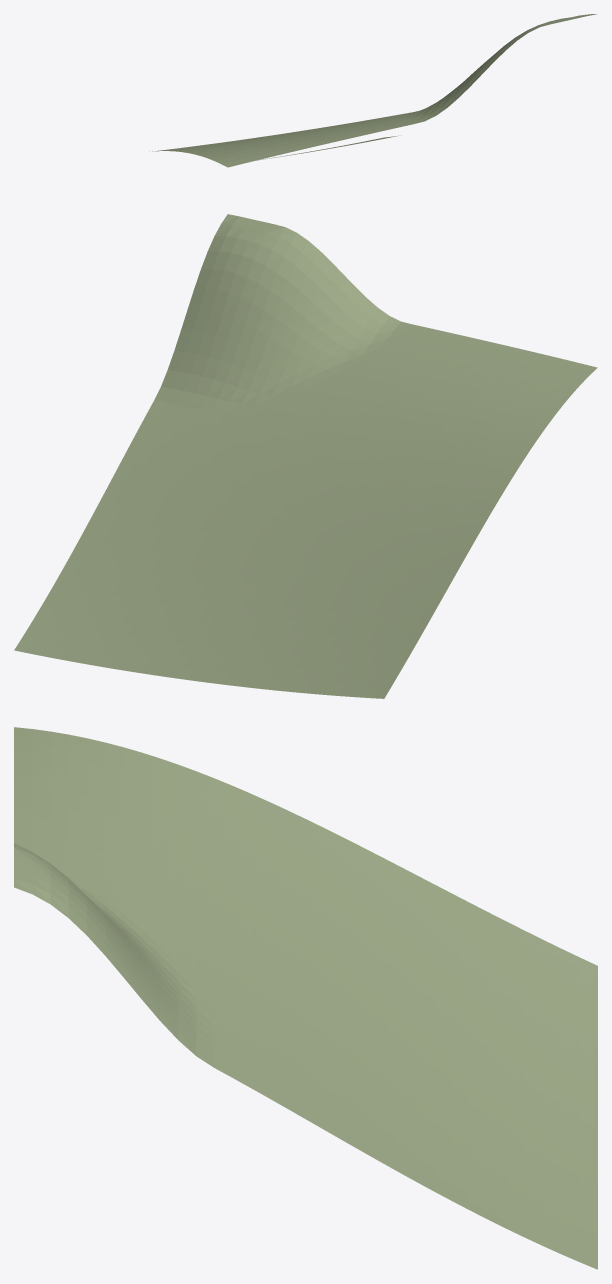
The model's file is expanse-24-28.glb.
3 renders of one model, top to bottom at view 1: azimuth 30°, elevation 25°; view 2: azimuth 150°, elevation 25°; view 3: azimuth 270°, elevation 25°, orthographic. The views are drawn at different scales.
Parts seen in each view (by area): view 1: expanse-24-28; view 2: expanse-24-28; view 3: expanse-24-28.
Boxes of the visible parts, x1,y1,x2,y2 form: expanse-24-28: (149,14,596,167); expanse-24-28: (14,214,597,698); expanse-24-28: (14,727,597,1269).
Size of the model in its own units: 256 by 186 by 256.
